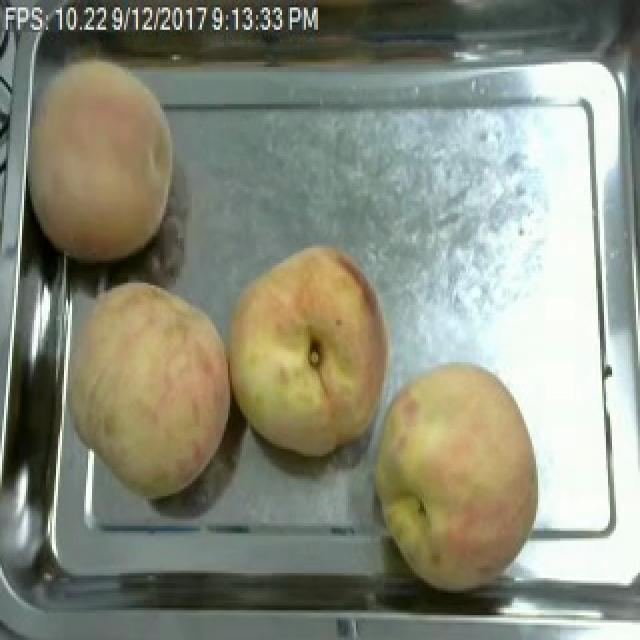Fruit: (362, 355, 548, 603), (48, 271, 240, 504), (224, 240, 406, 464), (4, 57, 186, 273)
